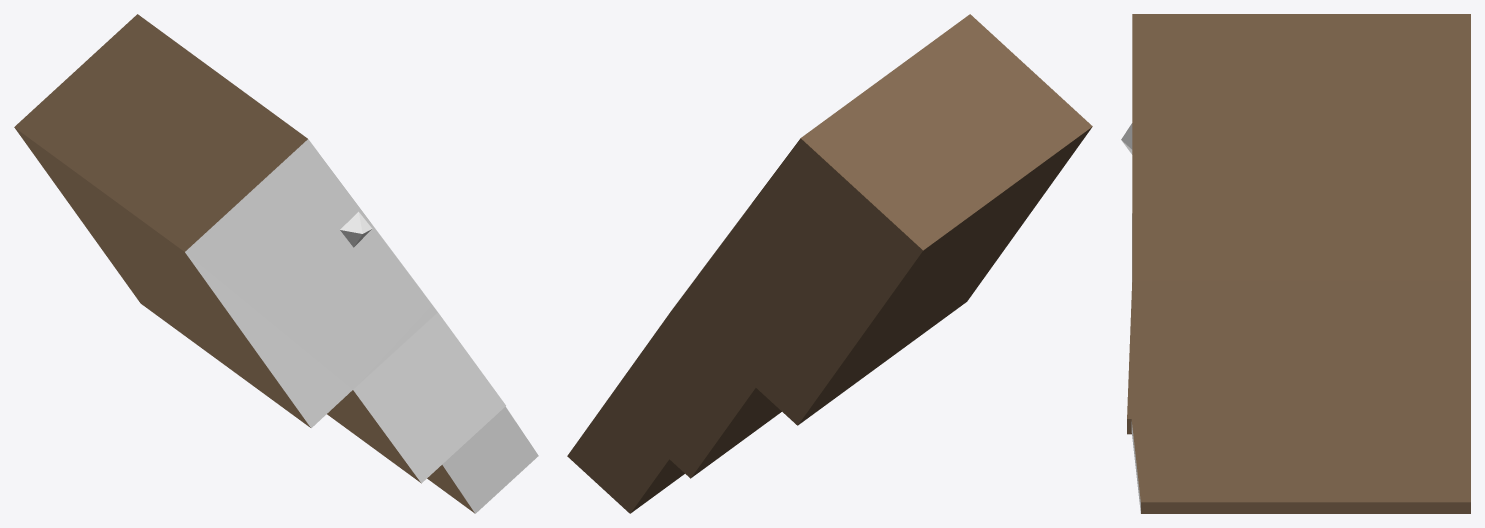
3 renders of one model, left to right at view 1: azimuth 30°, elevation 25°; view 2: azimuth 150°, elevation 25°; view 3: azimuth 270°, elevation 25°, orthographic.
Visible parts, largest first — view 1: City_1885190; view 2: City_1885190; view 3: City_1885190.
Part boxes in pixels (bbox=[...]): City_1885190: bbox=[14, 14, 538, 513]; City_1885190: bbox=[567, 14, 1092, 513]; City_1885190: bbox=[1121, 14, 1470, 513].
Bounding box in the file's own units: 1821 × 2040 × 1552.
